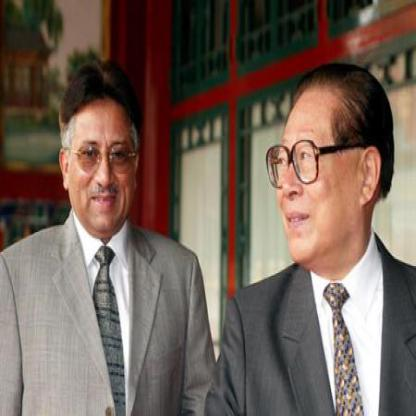face: (271, 74, 364, 275), (68, 77, 139, 237)
